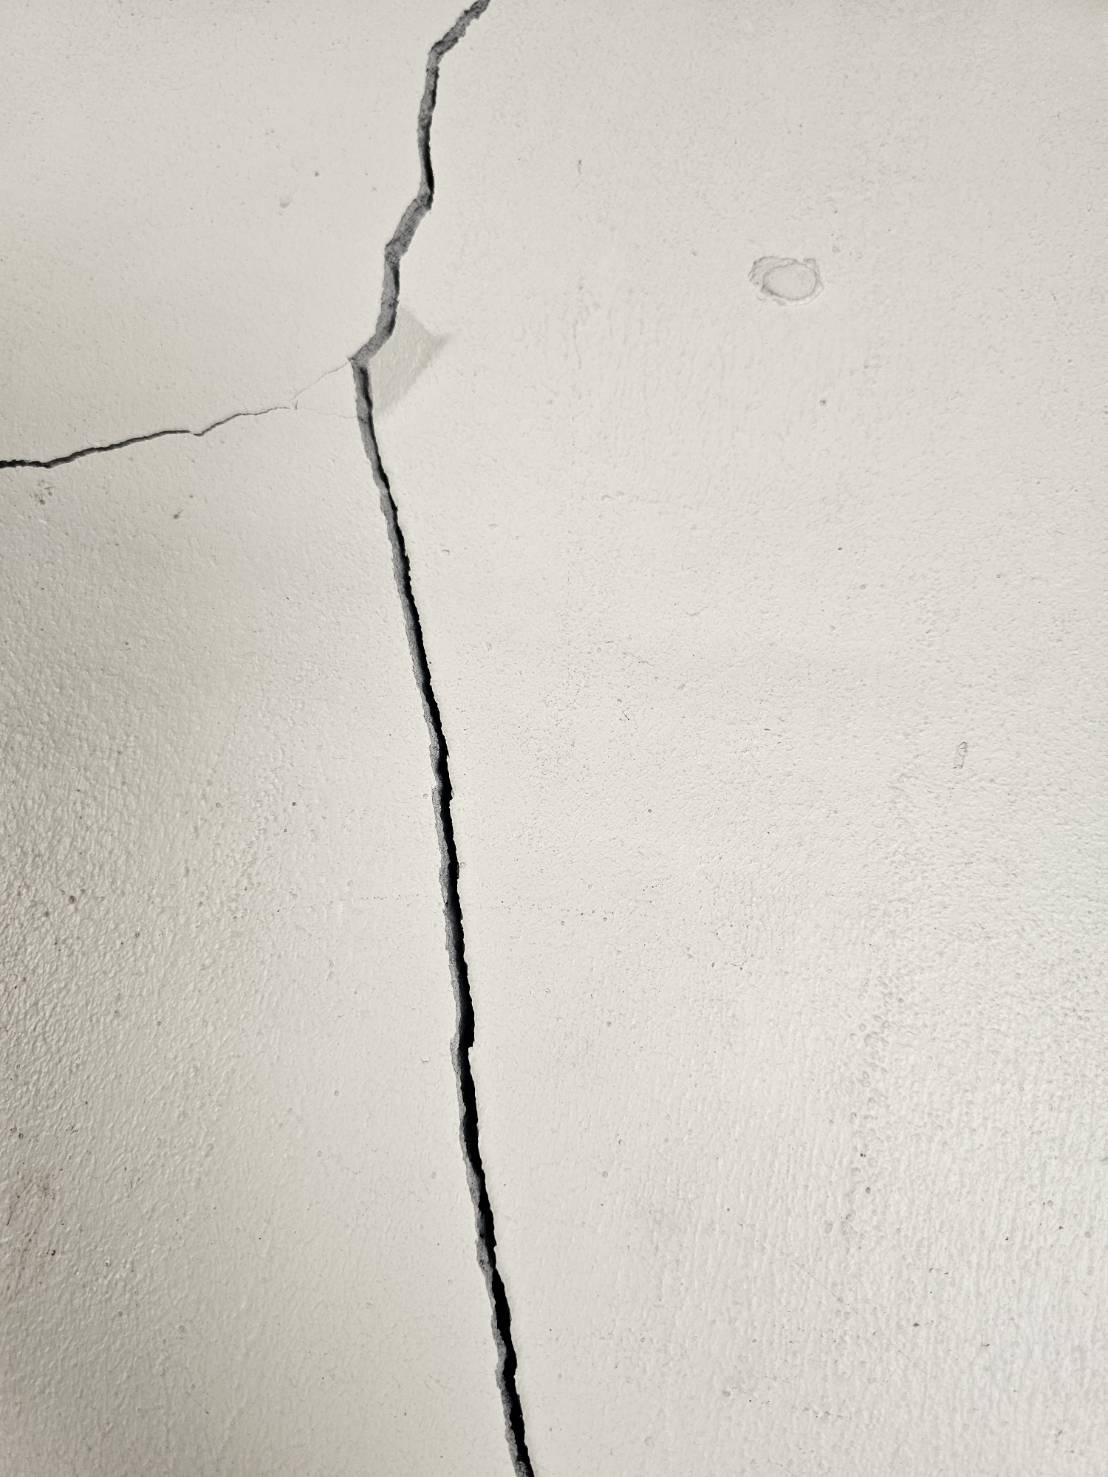High: (1, 1, 606, 1477)
